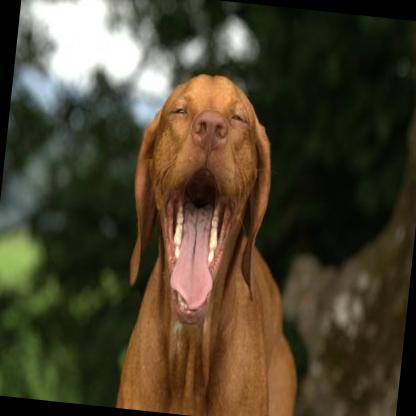vizsla: (108, 62, 327, 416)
